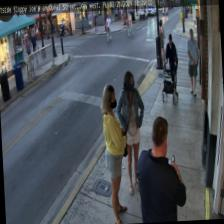person: (133, 114, 187, 222), (114, 70, 148, 193), (100, 83, 129, 224), (185, 27, 200, 95), (163, 32, 178, 92)
